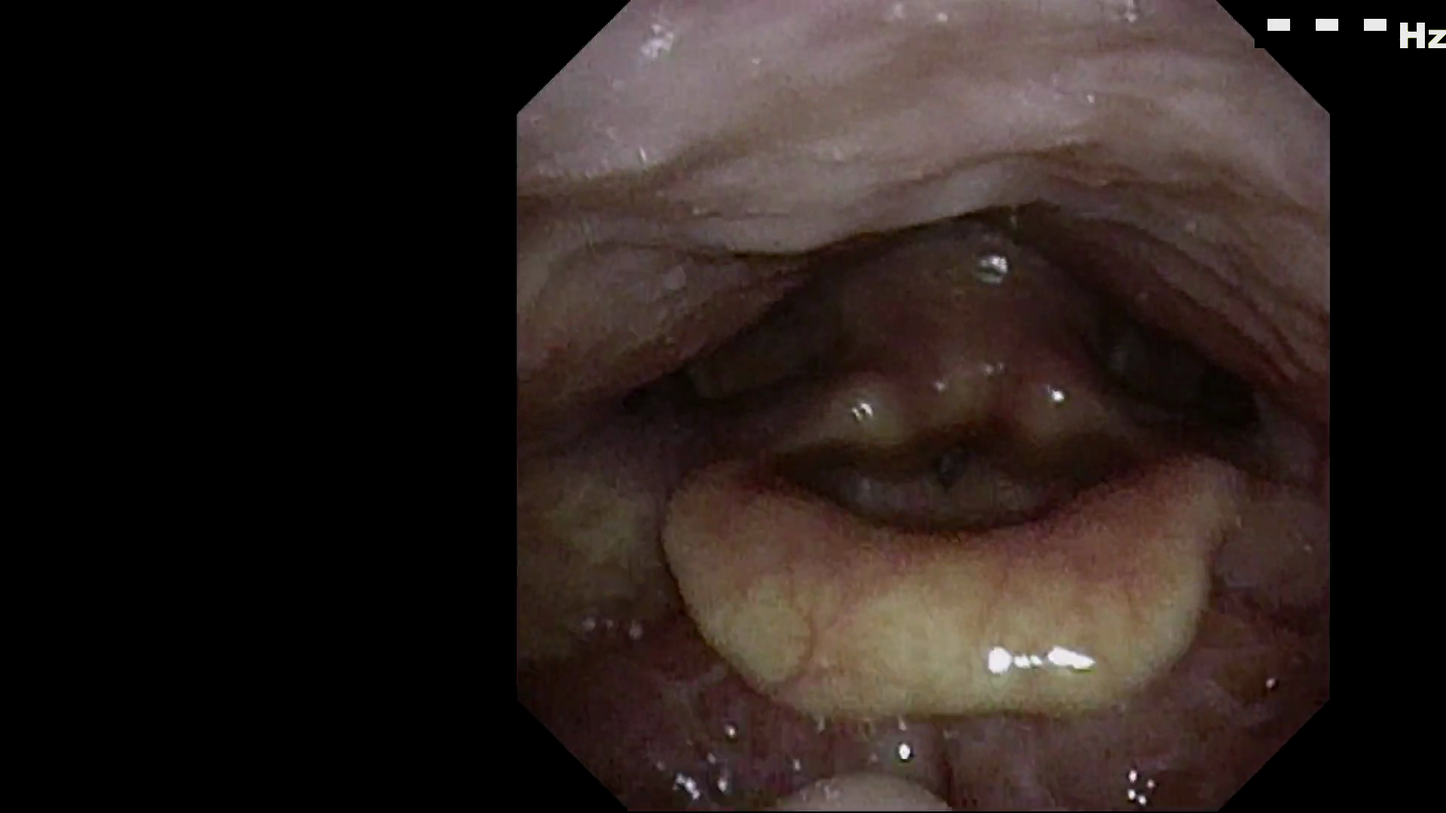epiglottis: (668, 488, 1221, 688)
trachea: (907, 428, 983, 523)
